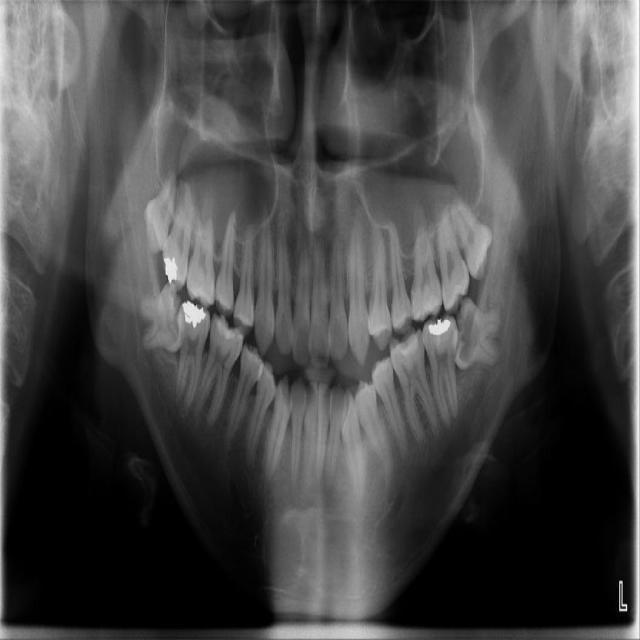3M ESPE Implant: (136, 165, 183, 258)
52: (171, 298, 216, 348), (158, 230, 191, 294), (419, 312, 462, 360)
BioHorizons Implant: (433, 198, 473, 316)
BioLife Implant: (449, 189, 503, 281)
Biomet 3i Implant: (452, 297, 507, 372)
Blue Sky Bio Implant: (421, 314, 460, 429)
Caries: (157, 175, 199, 293)
Implant: (175, 299, 210, 409)
Keystone Dental Implant: (138, 279, 189, 353)
